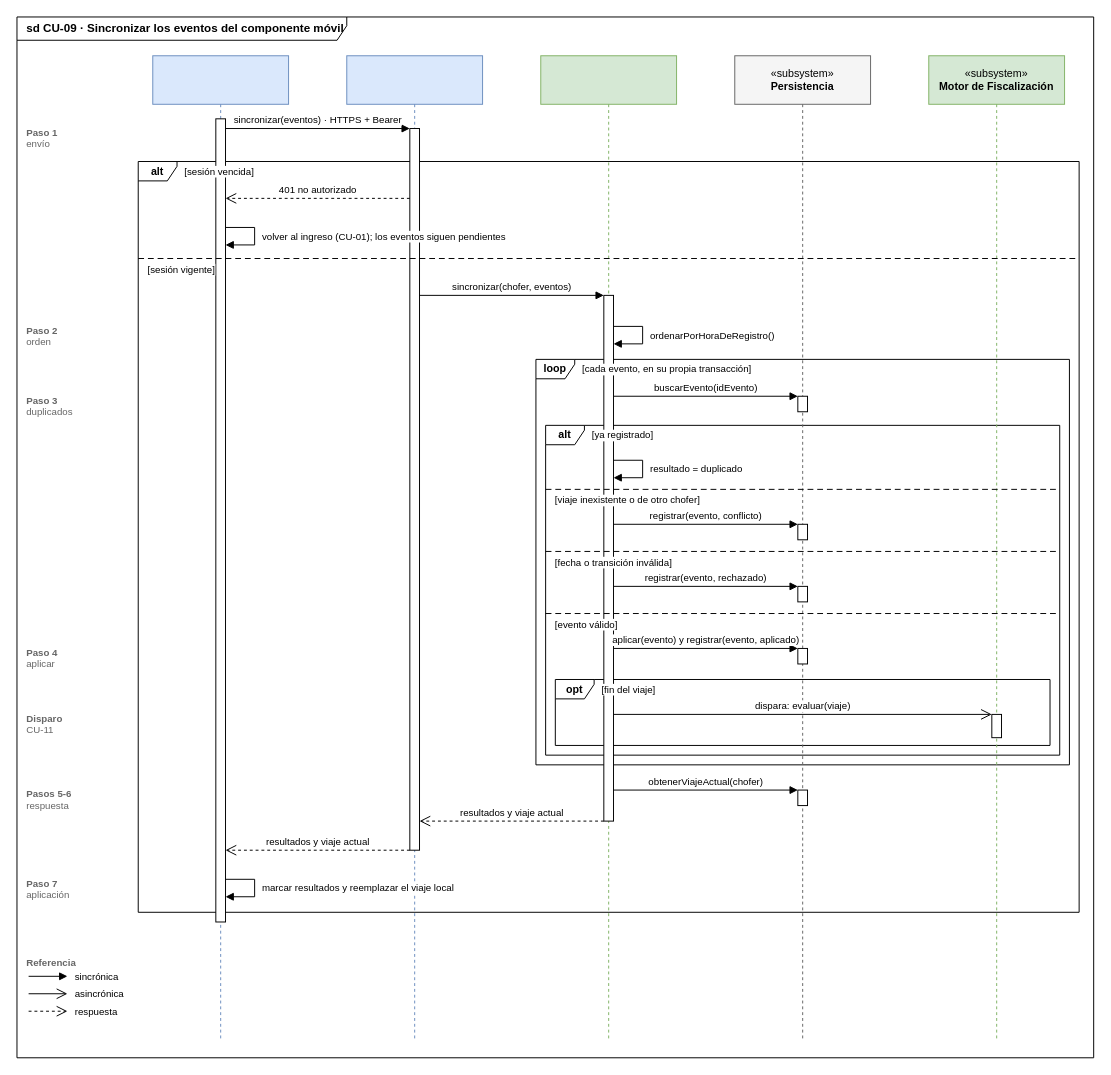
Some shapes in this 1111 by 1075 pixel diagram are drawn without their labels. Each missing label, with the box of its shape:
«subsystem» API REST: (346, 55, 483, 1038)
«subsystem» Componente Móvil: (152, 55, 289, 1038)
«subsystem» Servicios de Negocio: (540, 55, 677, 1038)
